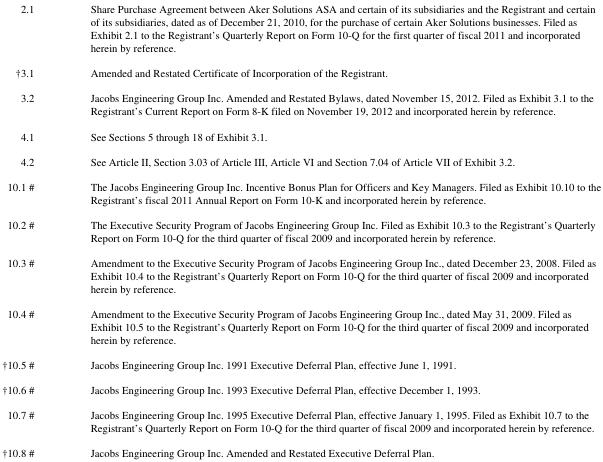table: (1, 1, 600, 459)
table column: (61, 1, 600, 459), (1, 1, 61, 459)
table row: (1, 1, 600, 59), (1, 249, 600, 300), (1, 300, 600, 351), (1, 84, 600, 122), (1, 173, 600, 211), (1, 211, 600, 249), (1, 401, 600, 439), (1, 147, 600, 173), (1, 59, 600, 84), (1, 122, 600, 147), (1, 351, 600, 376), (1, 376, 600, 401), (1, 439, 600, 459)
